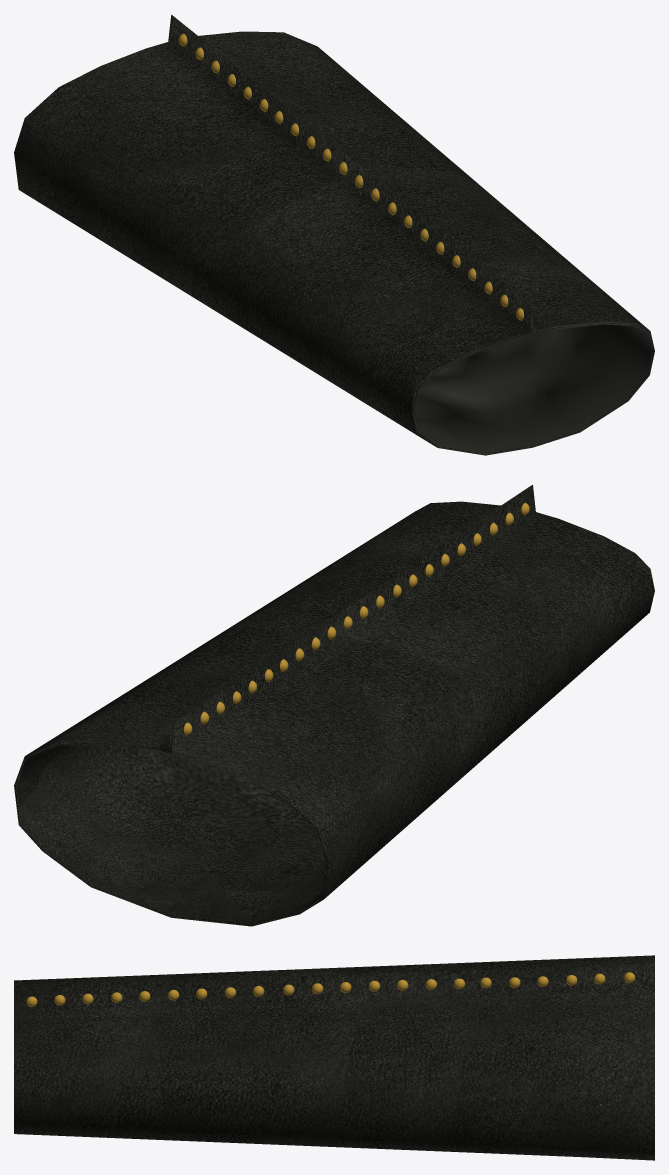
The model's file is Shotgun-Holster.fbx.
The picture shows the model from 3 angles, top to bottom: view 1: azimuth 30°, elevation 25°; view 2: azimuth 150°, elevation 25°; view 3: azimuth 270°, elevation 25°; orthographic projection. The views are drawn at different scales.
Parts seen in each view (by area): view 1: Plane; view 2: Plane; view 3: Plane.
Boxes of the visible parts, x1,y1,x2,y2 form: Plane: (14,14,654,455); Plane: (14,484,654,926); Plane: (14,955,654,1160).
Bounding box in the file's own units: 100 × 59.1 × 200.
1 material, 1 textured.
